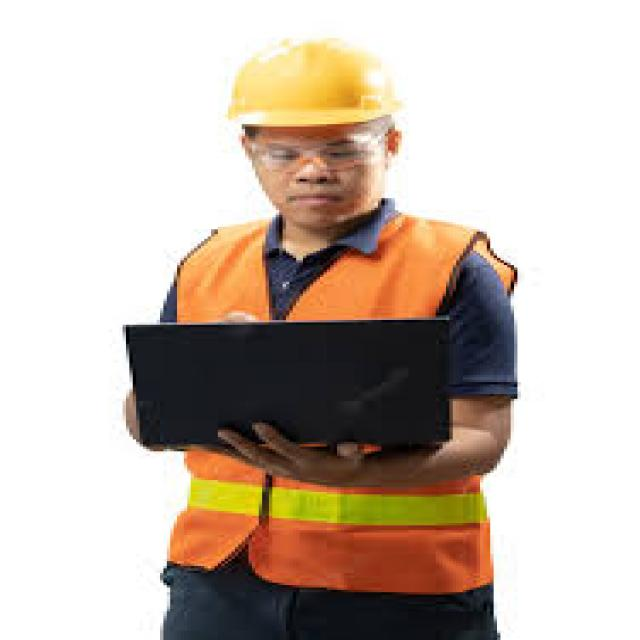Reflective-Jacket: (147, 212, 518, 602)
Safety-Helmet: (214, 31, 408, 131)
